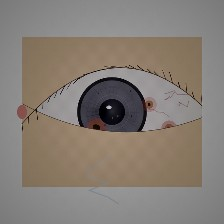foreign_body_visible: (77, 112, 116, 143)
